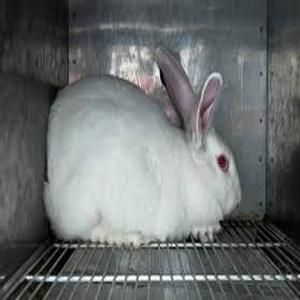rabbit: (44, 51, 243, 247)
